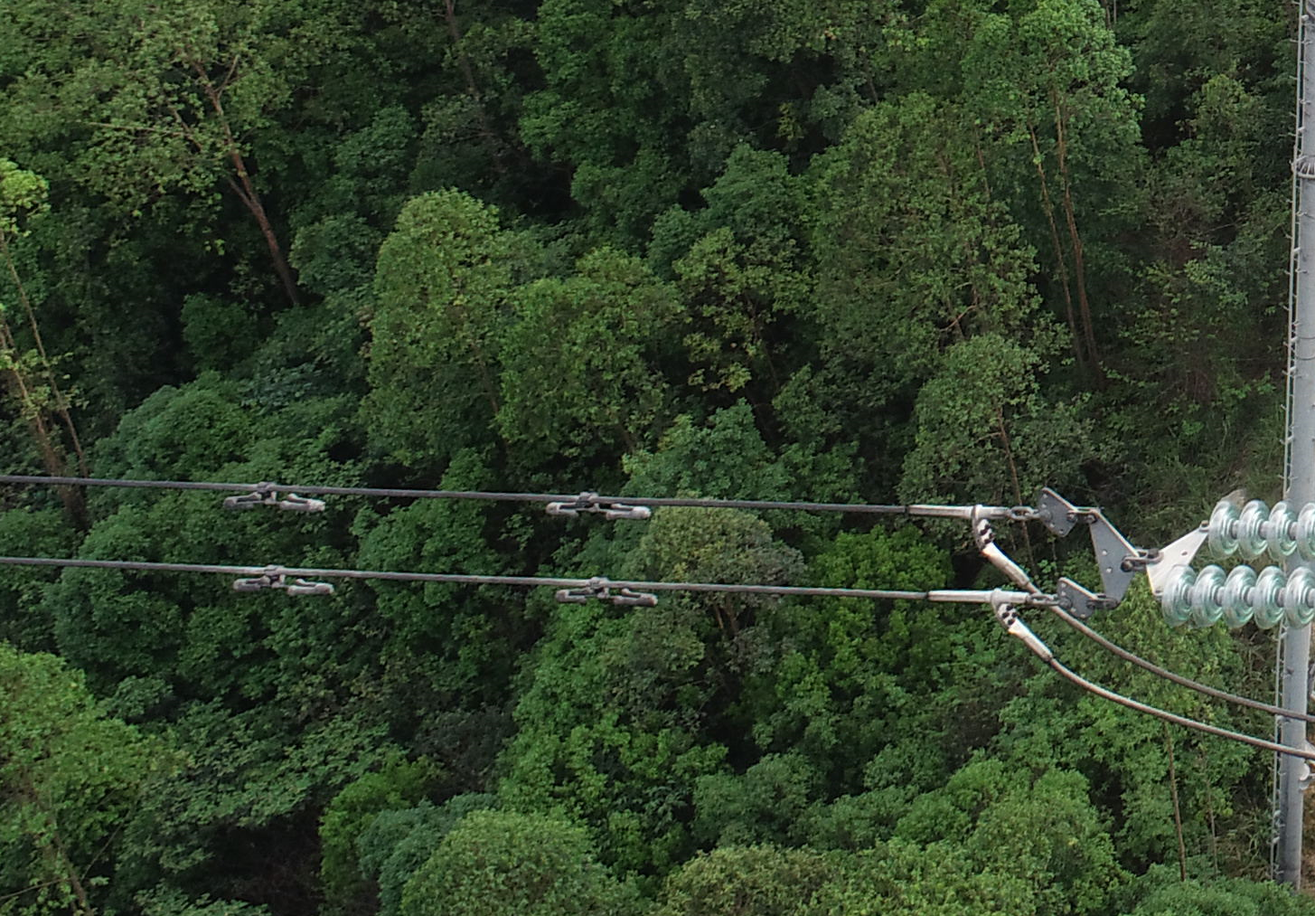damper: (227, 560, 337, 600), (551, 573, 662, 611), (541, 487, 654, 524), (221, 477, 326, 515)
